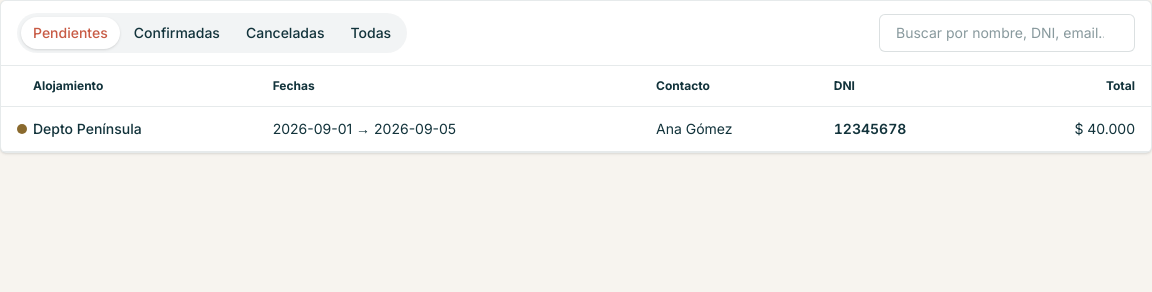
ReservasTable — fila expandible › clickear de nuevo la colapsa
Click the text "Depto Península": click(576, 129) 1,106 -> 1151,152
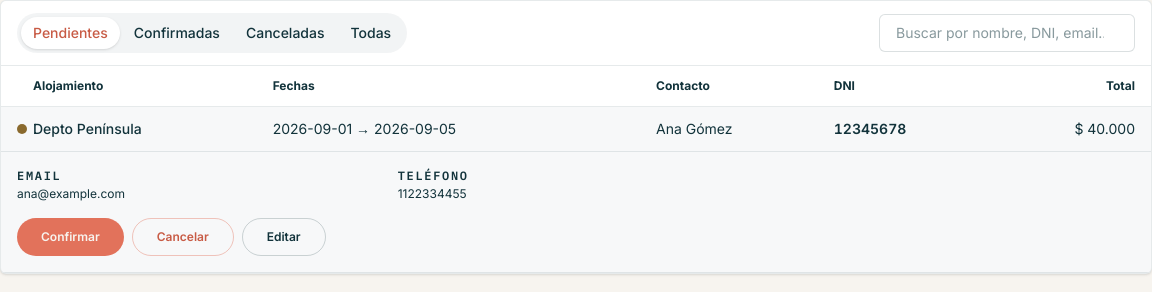
Check: the text "ana@example.com" is shown, box 17,186 -> 125,201
Click the text "Depto Península": click(576, 129) 1,106 -> 1151,152
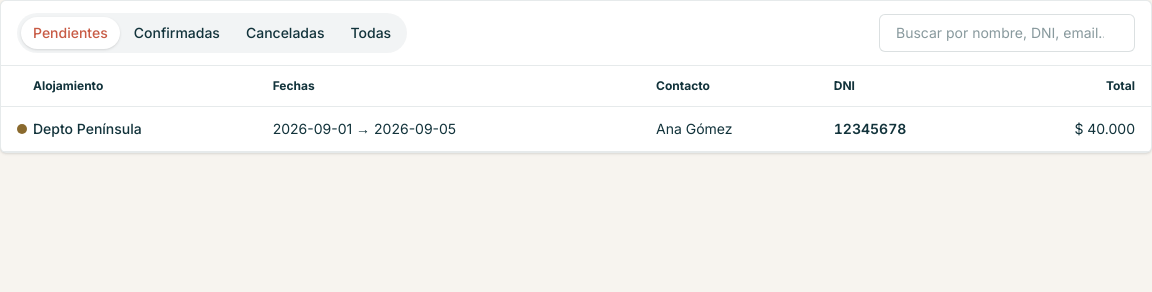
Check: the text "ana@example.com" is gone
